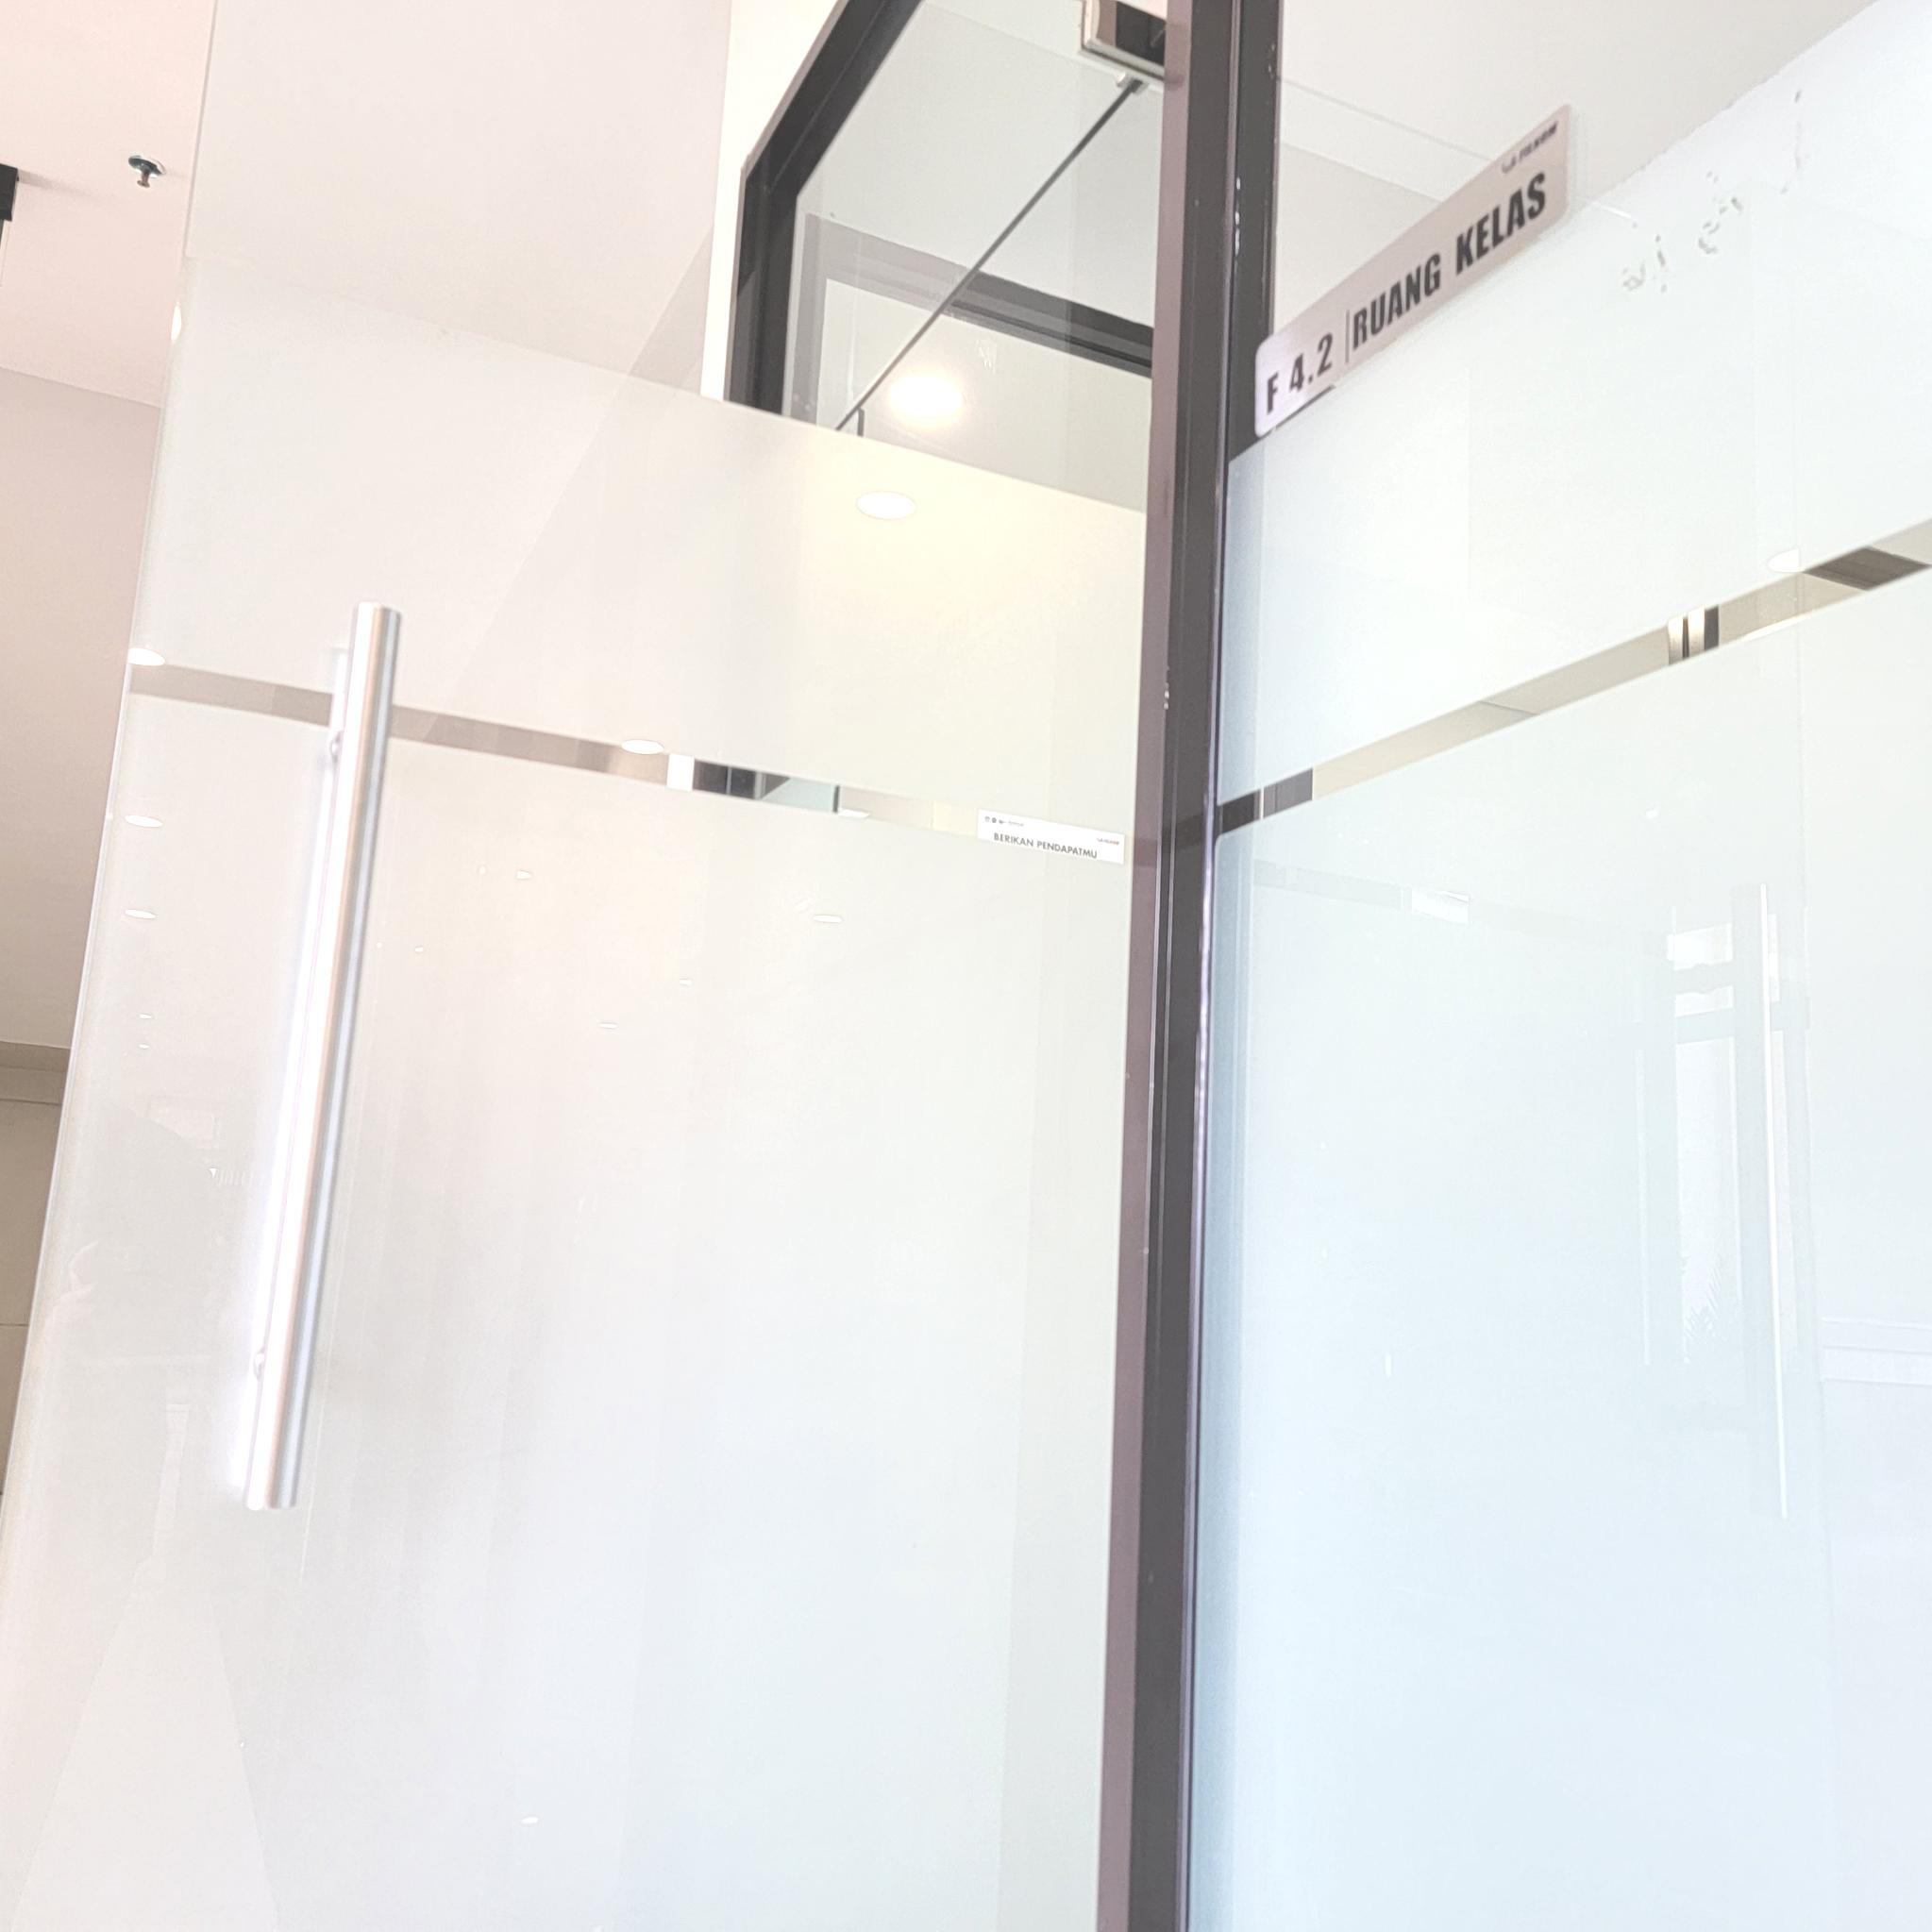plate: (1254, 104, 1571, 439)
